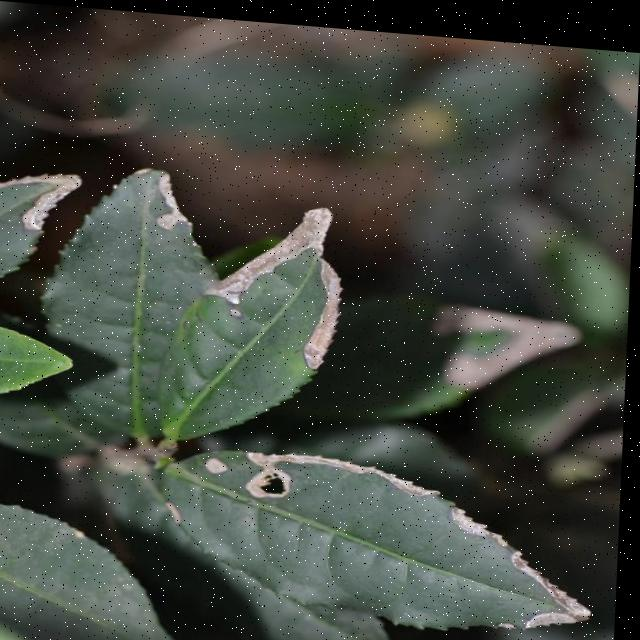Tea cloud leaf blight: (263, 434, 589, 609), (173, 192, 363, 411), (114, 141, 224, 249), (16, 146, 94, 229)
